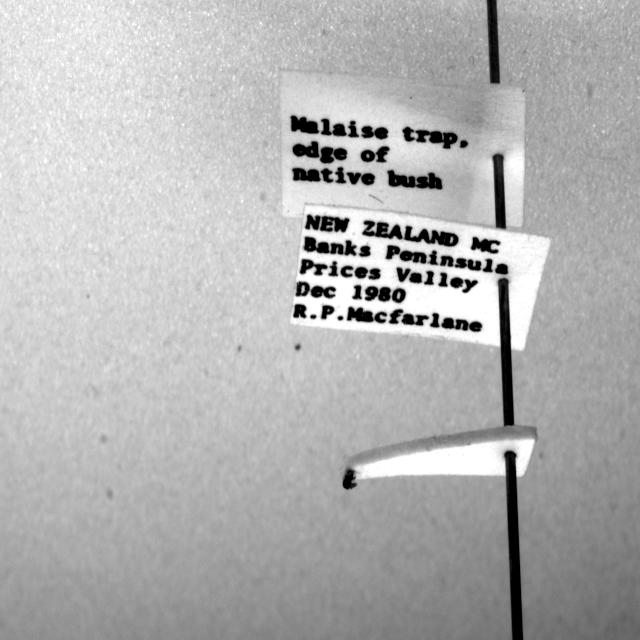typed_label: (279, 69, 526, 227), (291, 204, 550, 351)
